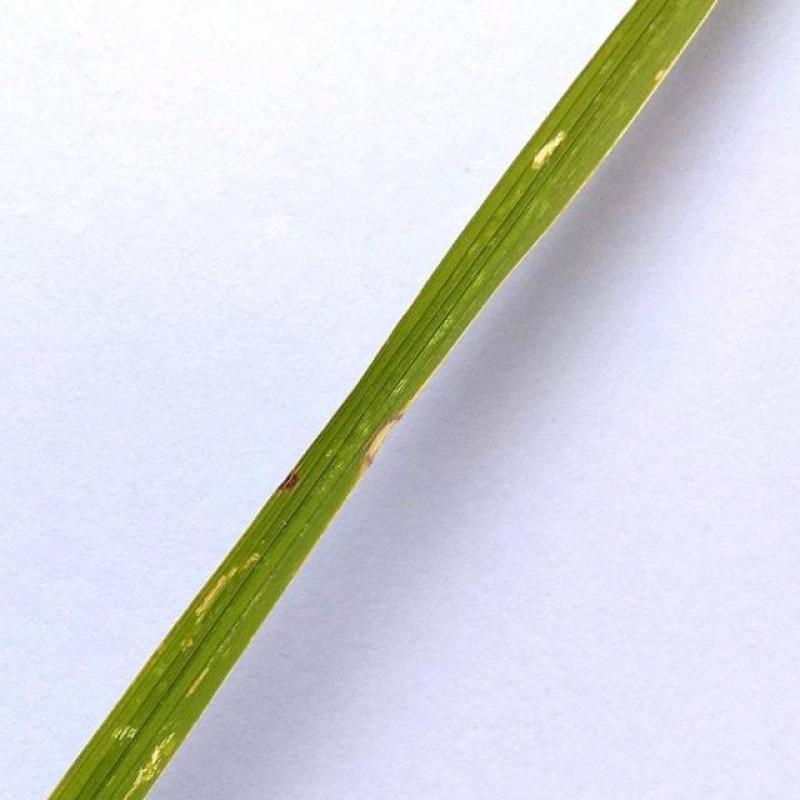Leaf_Blast: (170, 530, 276, 649), (361, 416, 419, 477), (530, 126, 574, 174)
